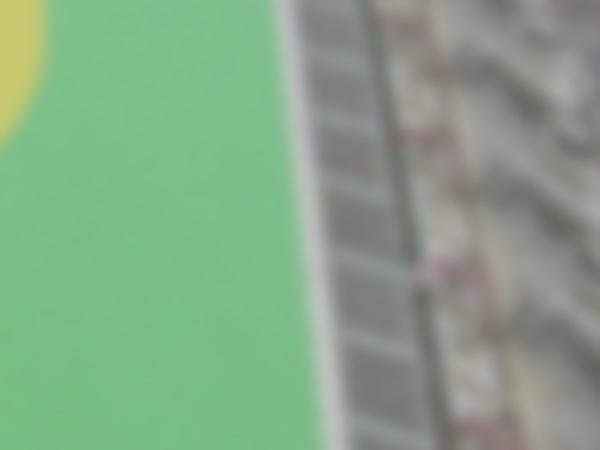Apron: (1, 1, 60, 152)
